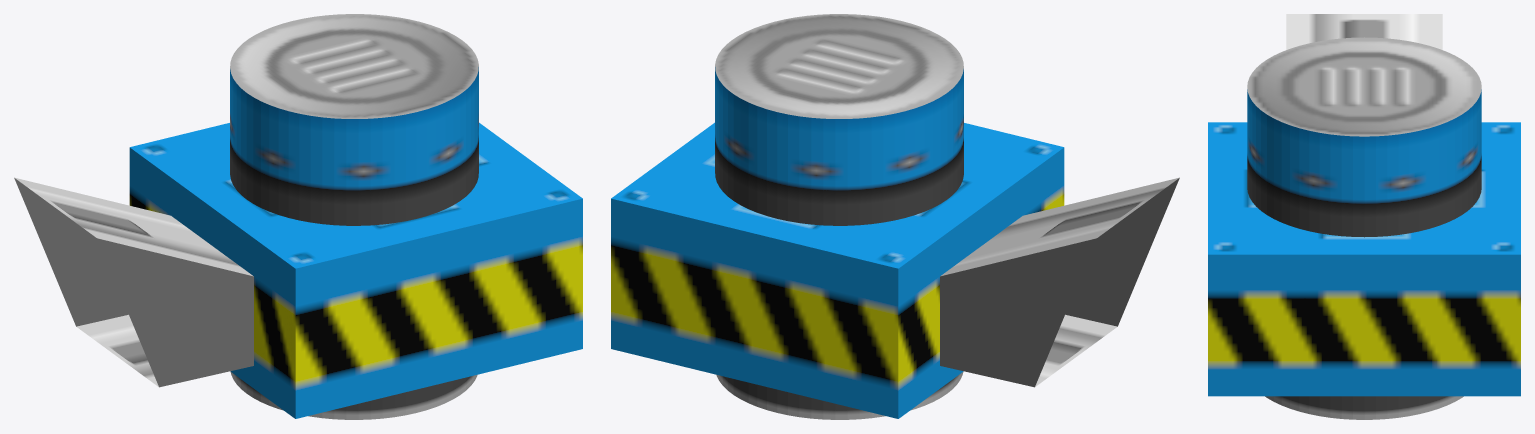
File: roller2s.obj
3 views of the same model, side by side, from view 1: azimuth 30°, elevation 25°; view 2: azimuth 150°, elevation 25°; view 3: azimuth 270°, elevation 25° (orthographic). The views are drawn at different scales.
Visible parts, largest first — view 1: ColobotMesh_1_ColobotMesh_; view 2: ColobotMesh_1_ColobotMesh_; view 3: ColobotMesh_1_ColobotMesh_.
Boxes of the visible parts, box(x1,y1,x2,y2) form: ColobotMesh_1_ColobotMesh_: box(14, 14, 582, 419); ColobotMesh_1_ColobotMesh_: box(611, 14, 1179, 419); ColobotMesh_1_ColobotMesh_: box(1208, 14, 1520, 419).
Size of the model in its own units: 6.19 by 4 by 4.
